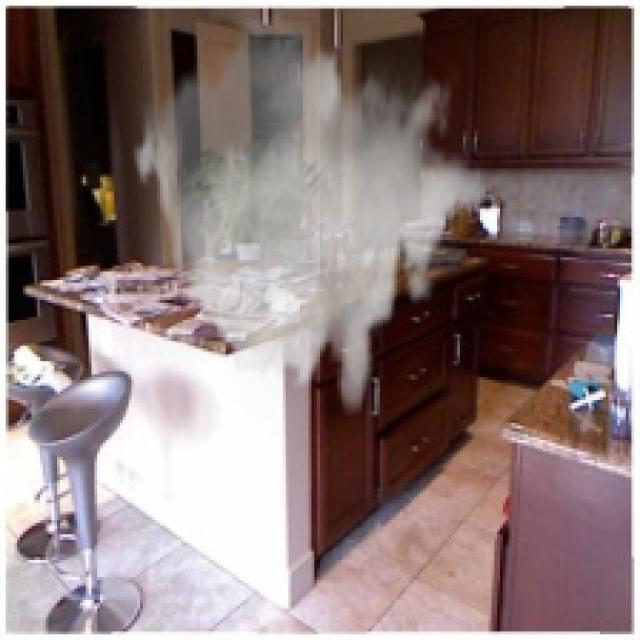smoke: (132, 3, 488, 420)
